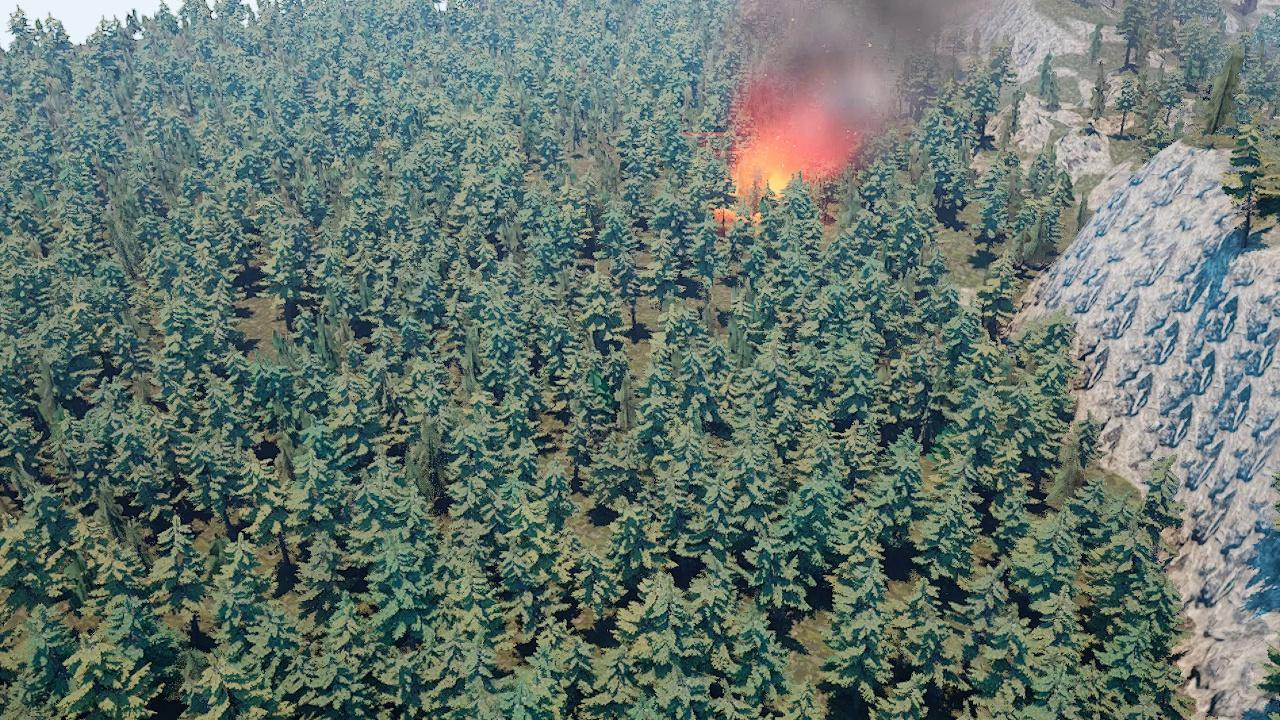fire: (716, 136, 803, 220)
smoke: (723, 0, 1039, 165)
